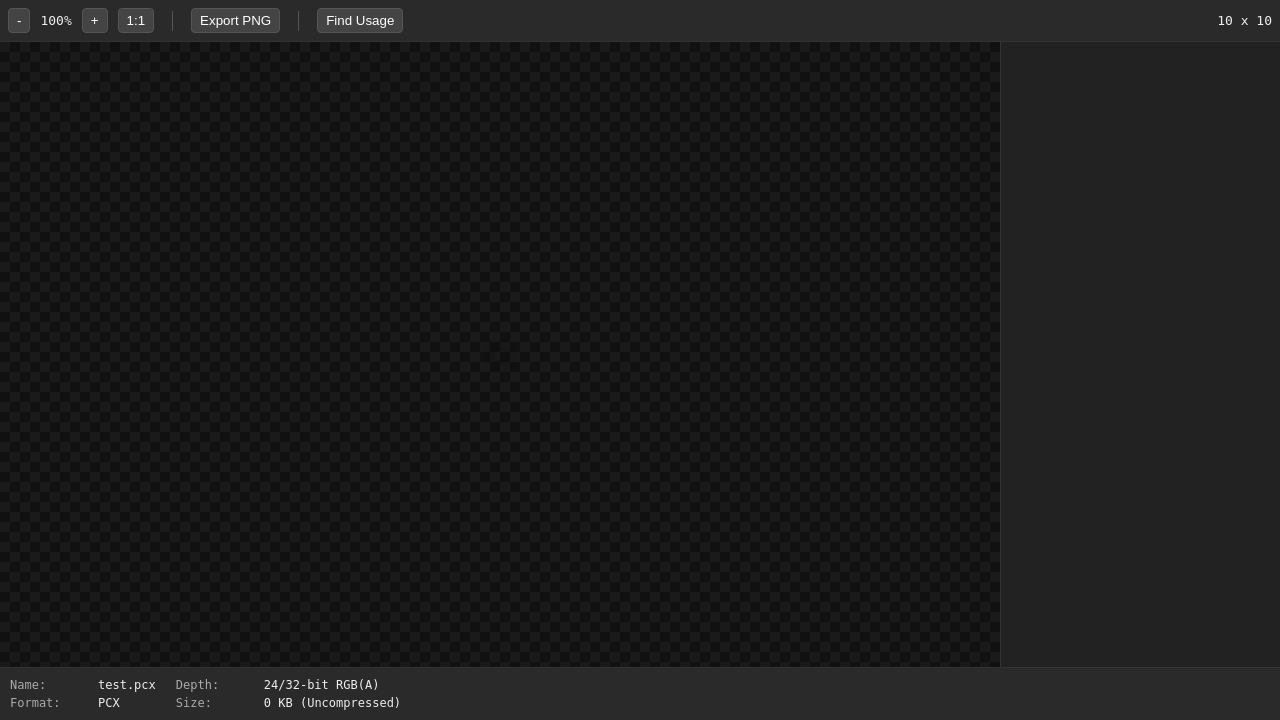
Test: TextureAtlas › scans for usage and handles model selection
The width and height of the screenshot is (1280, 720).
Step 1. Click the button "Find Usage" → [360, 20], box [317,8,403,33]
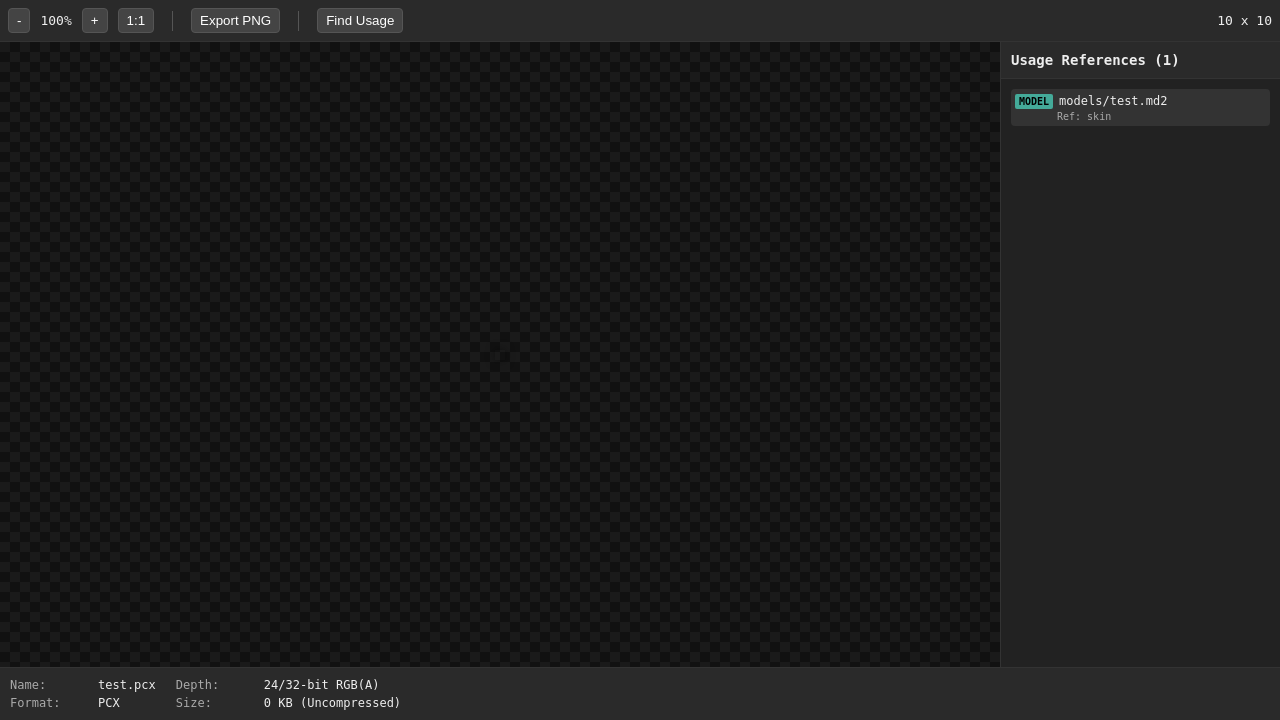
expect the text "models/test.md2" is shown: met
Select the usage
Step 2. Click the text "models/test.md2" → [1113, 101], box [1059,94,1168,108]
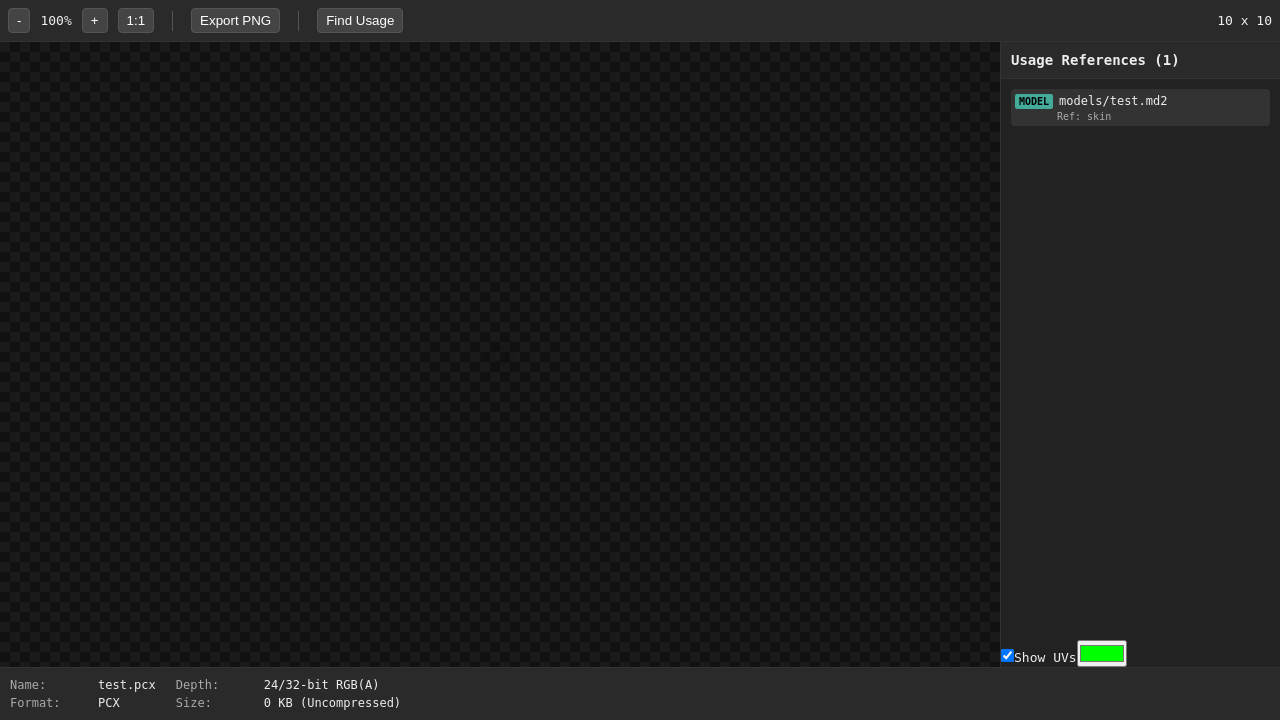
expect the text "Show UVs" is shown: met, box [1001,650,1077,665]
